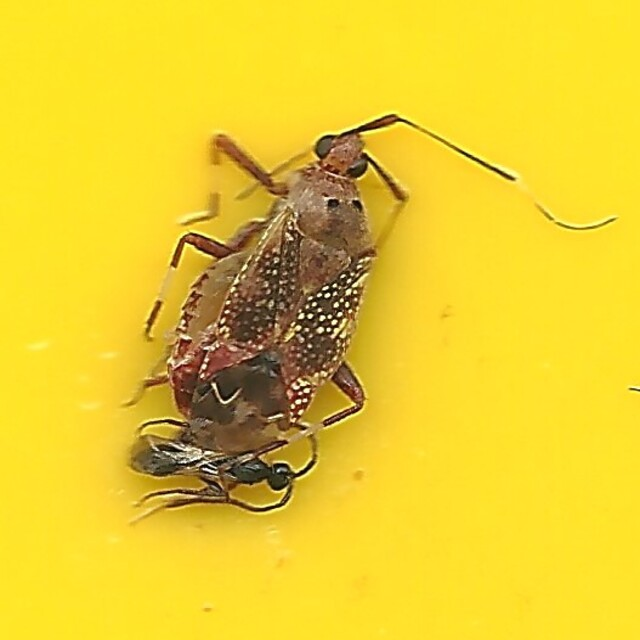Hemiptera: (123, 114, 519, 454)
Hymenoptera: (121, 432, 318, 526)
